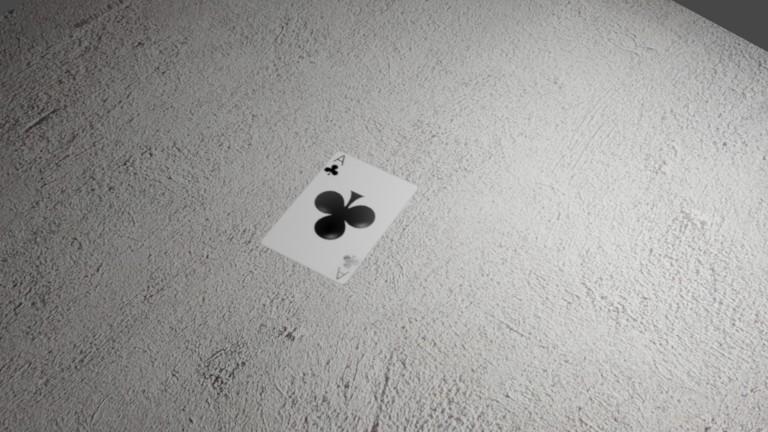ace_of_clubs: (131, 101, 145, 114), (128, 61, 141, 72)
